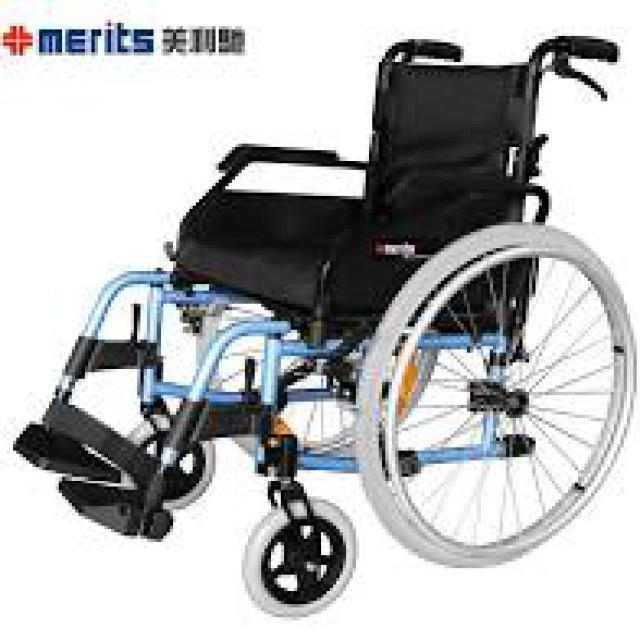wheelchairs: (15, 40, 630, 612)
